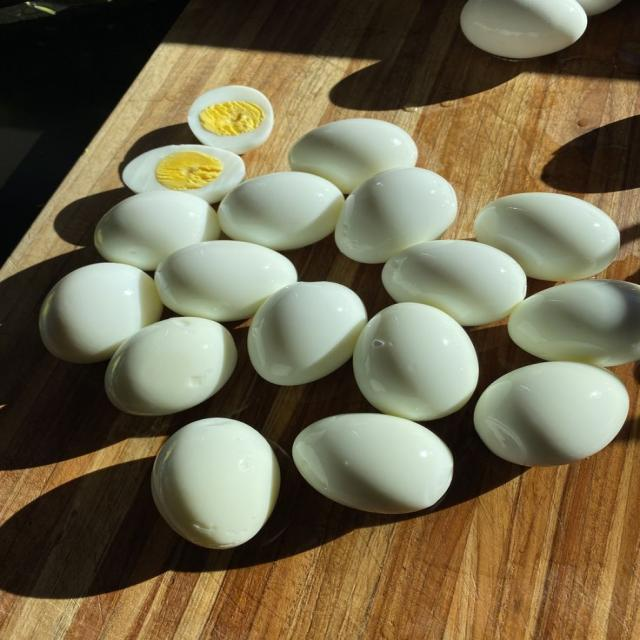egg boiled: (152, 418, 279, 548), (474, 362, 629, 466), (294, 414, 453, 513), (354, 303, 478, 420), (475, 192, 619, 281), (105, 318, 236, 415), (40, 263, 163, 363), (247, 282, 366, 385), (382, 241, 526, 325), (335, 168, 457, 263), (155, 241, 297, 321), (508, 280, 639, 366), (94, 191, 219, 270), (219, 172, 344, 250), (289, 119, 417, 193), (460, 0, 586, 58), (122, 145, 245, 203), (187, 86, 273, 153), (577, 0, 620, 16)
